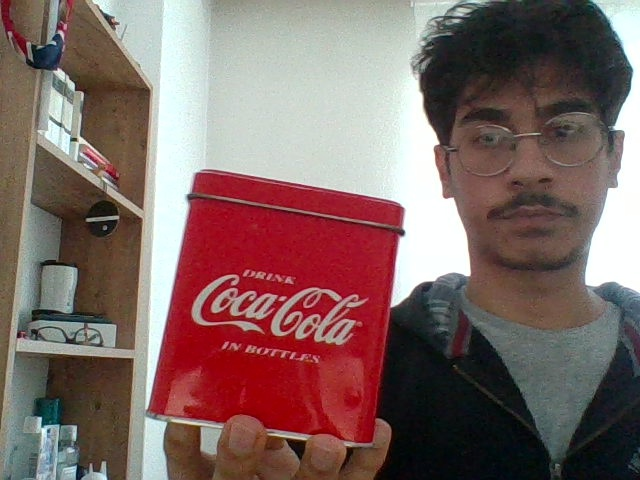CocaColaBox: (163, 169, 400, 437)
